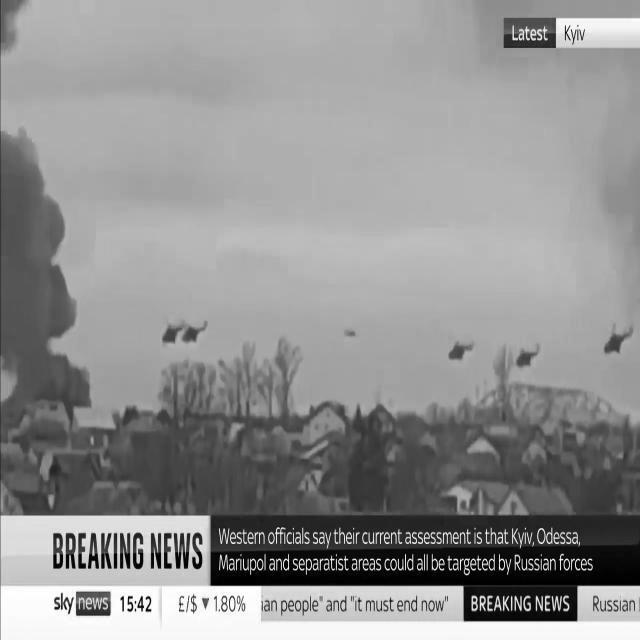helikopter: (149, 297, 224, 367), (434, 315, 484, 380), (598, 307, 640, 377), (504, 325, 556, 380)
